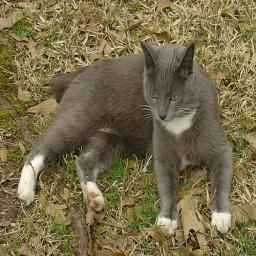catnose: (159, 114, 167, 121)
